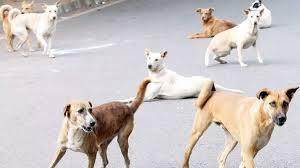dog_aggressive: (182, 83, 300, 168), (50, 78, 152, 168)
normal_dogs: (140, 48, 224, 107), (204, 8, 264, 76), (8, 5, 66, 58), (0, 1, 34, 52), (192, 3, 234, 38)
